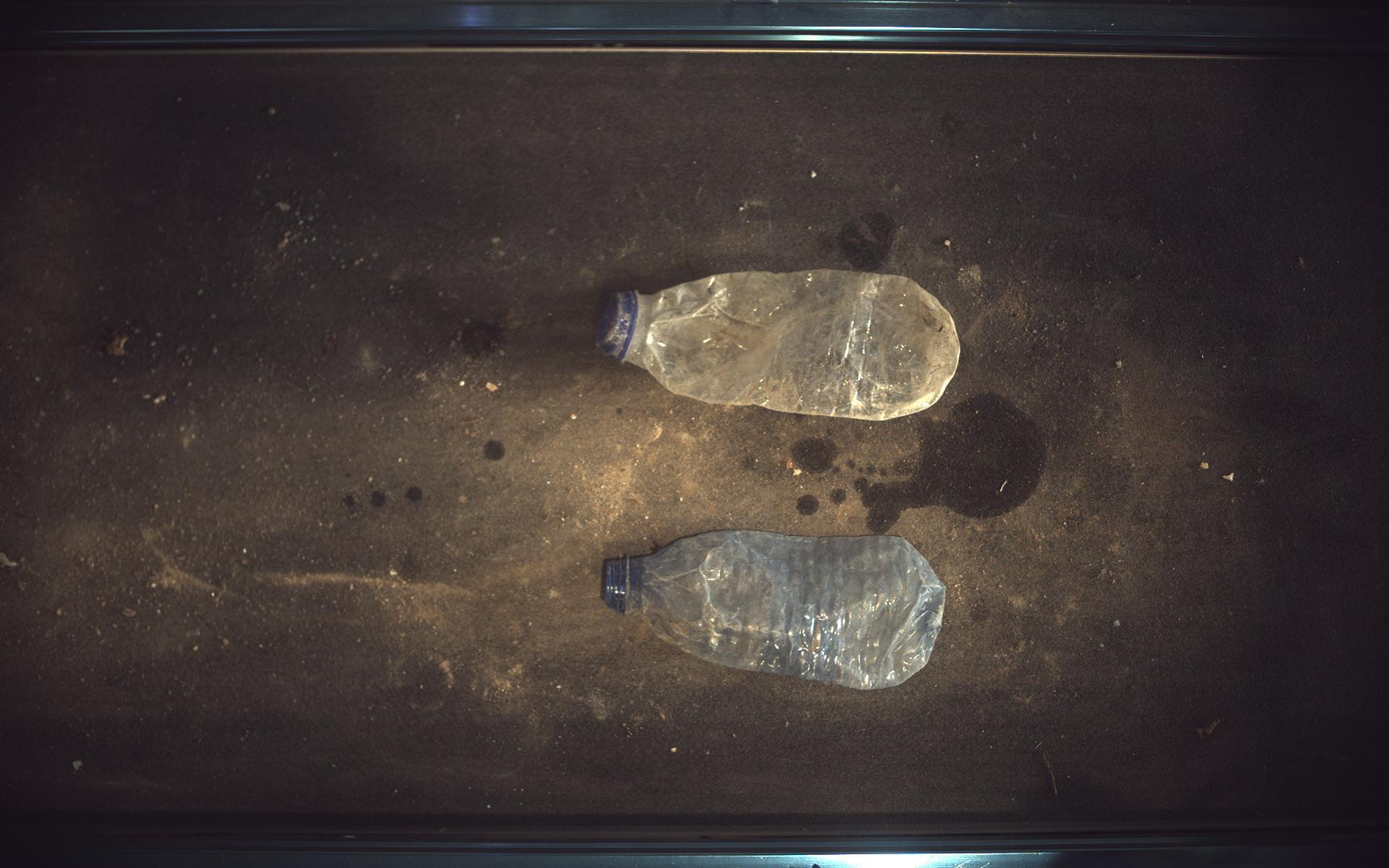general_w: (602, 531, 947, 691), (599, 269, 961, 420)
